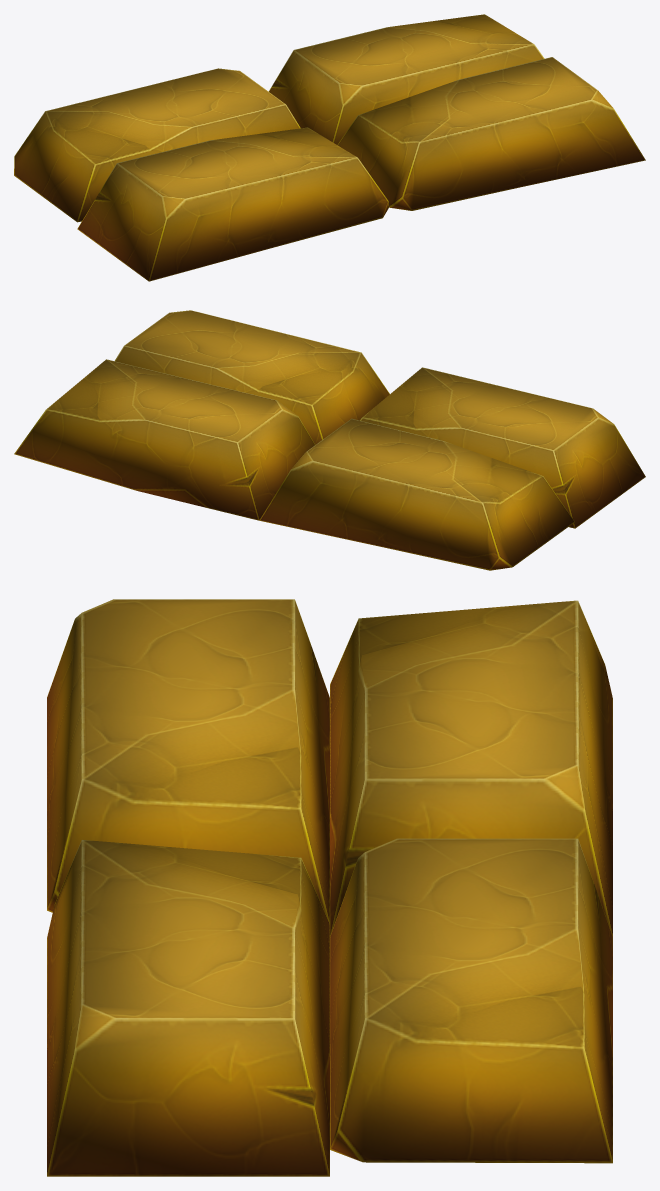
The model's file is Gold-20.fbx.
The picture shows the model from 3 angles, top to bottom: view 1: azimuth 30°, elevation 25°; view 2: azimuth 150°, elevation 25°; view 3: azimuth 270°, elevation 25°; orthographic projection. The views are drawn at different scales.
Parts seen in each view (by area): view 1: Gold-20; view 2: Gold-20; view 3: Gold-20.
Part boxes in pixels (x1,y1,x2,y2): Gold-20: (14,14,645,281); Gold-20: (14,310,645,570); Gold-20: (47,599,612,1176).
Bounding box in the file's own units: 0.3 × 0.0375 × 0.15.
Materials: 1 (1 with a texture image).
